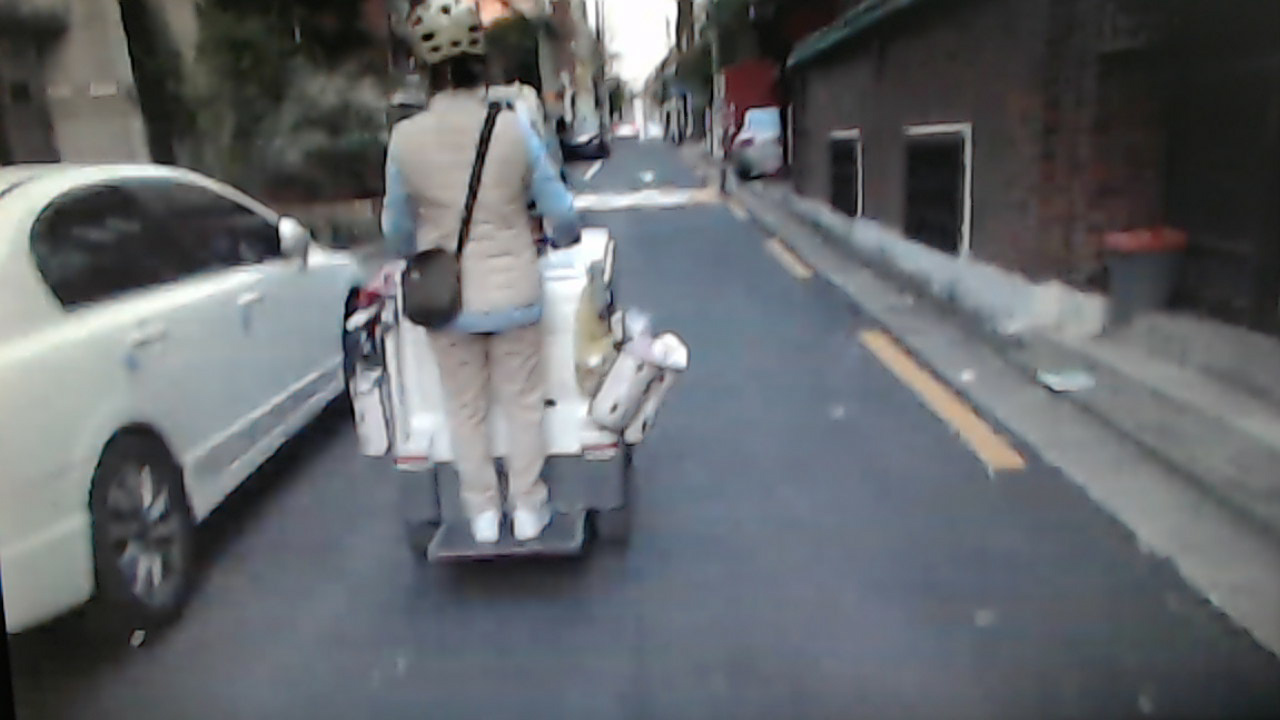Yakurut: (352, 3, 601, 557)
